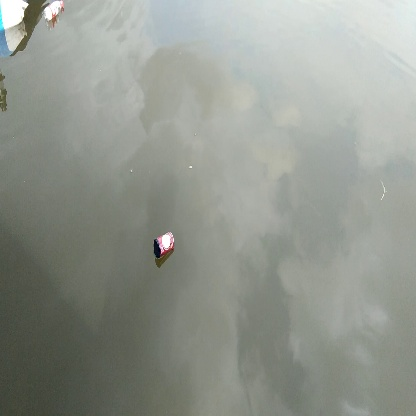bottle: (150, 228, 177, 261)
